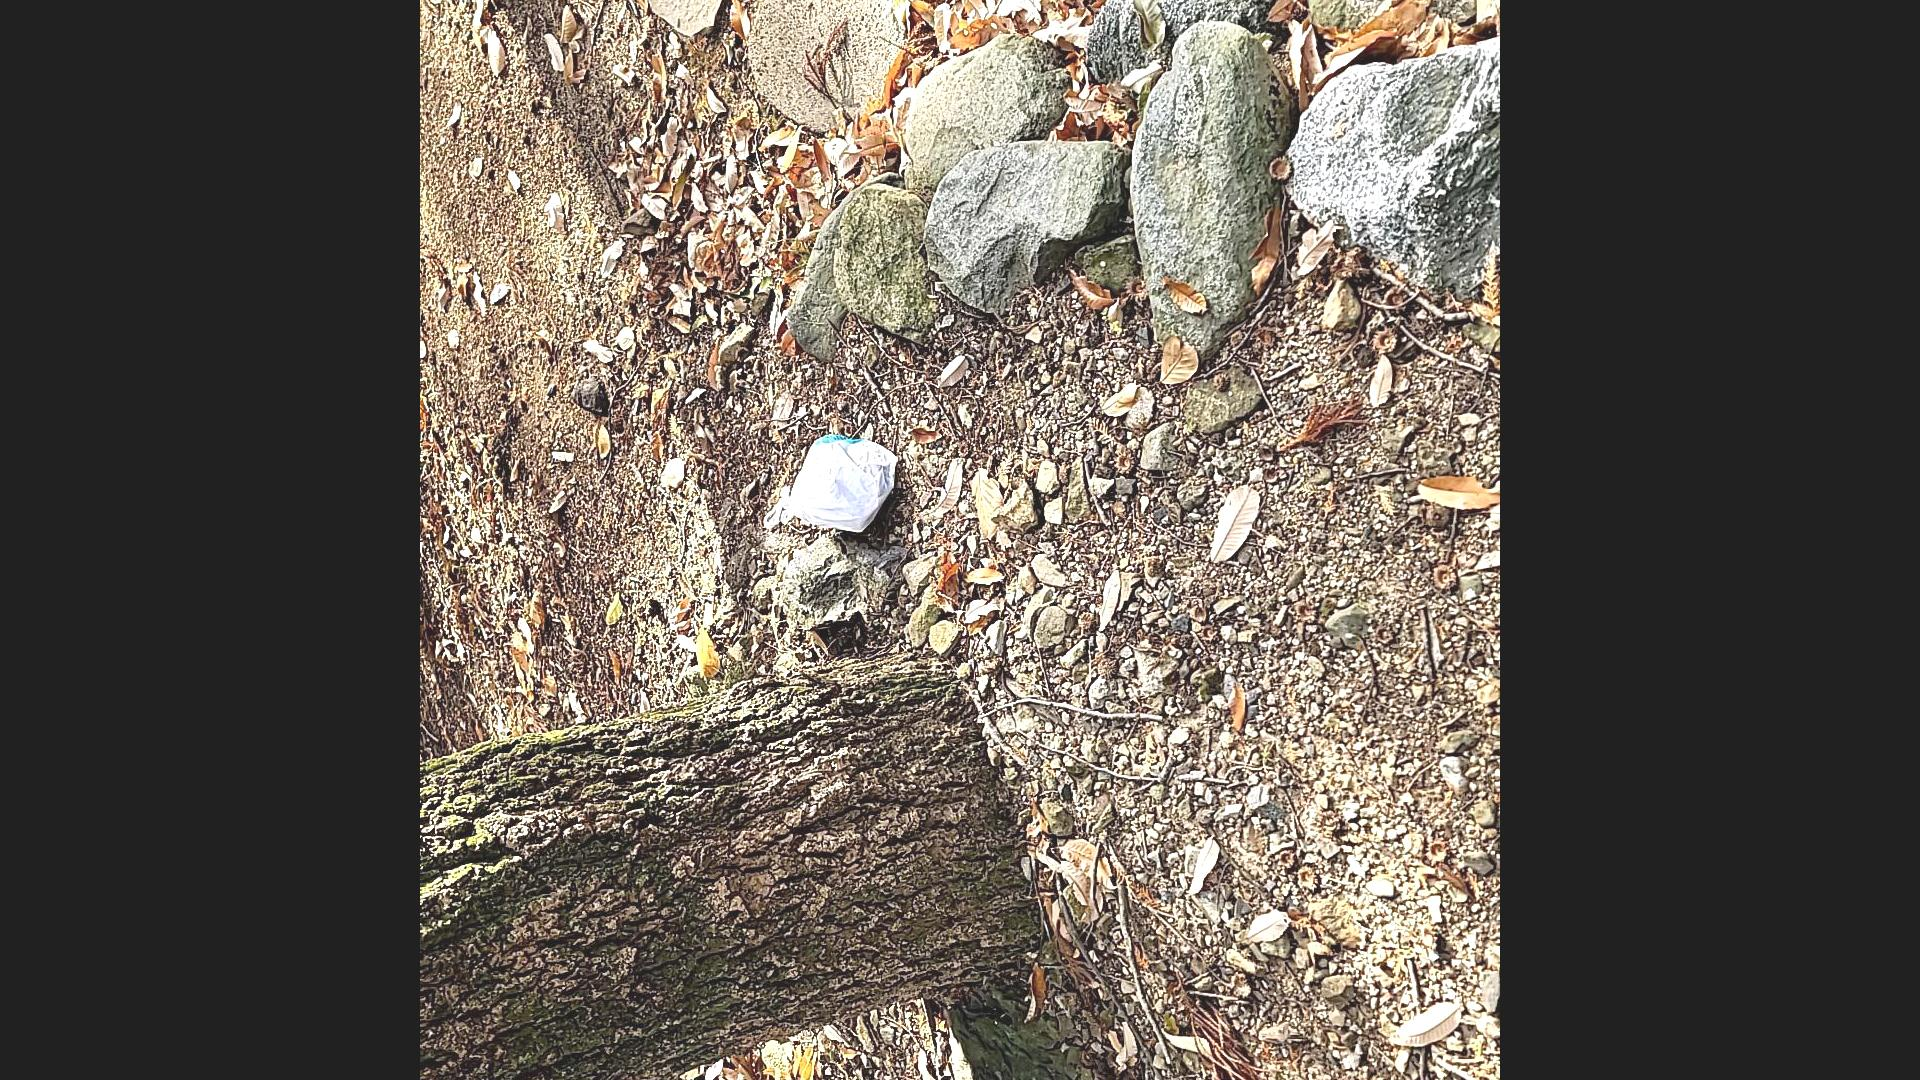white_bag: (758, 430, 901, 535)
